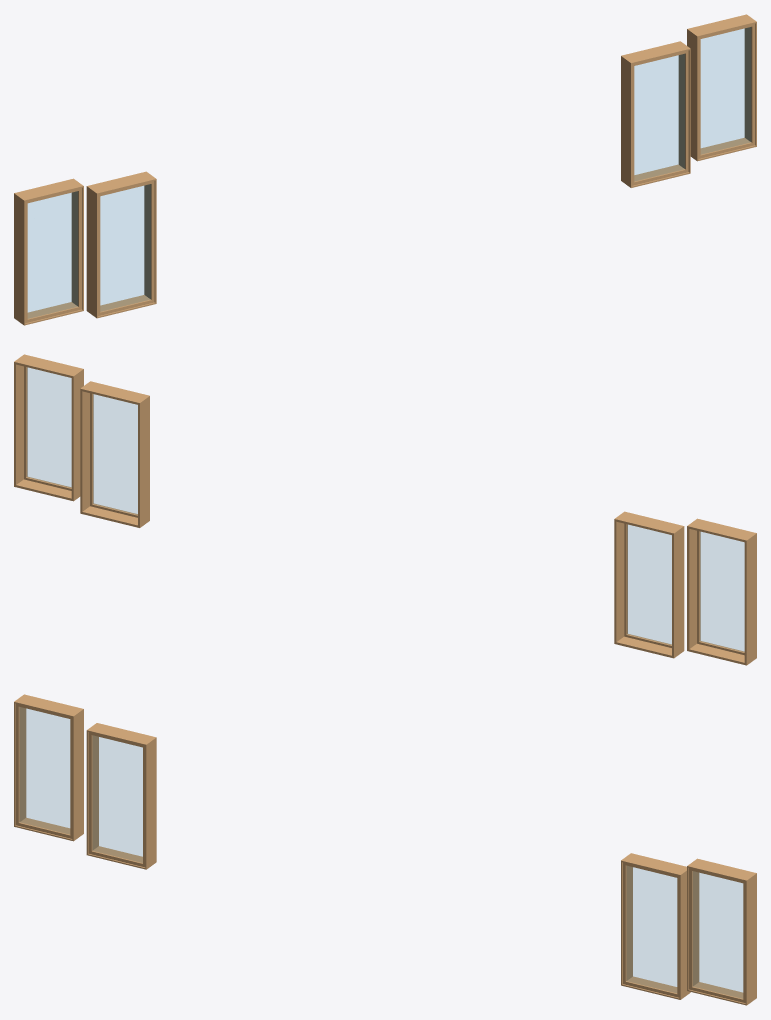
The model's file is Project4_IfcWindow.dae.
3 renders of one model, top to bottom at view 1: azimuth 30°, elevation 25°; view 2: azimuth 150°, elevation 25°; view 3: azimuth 330°, elevation 25°, orthographic.
Visible parts, largest first — view 1: 3SmbFggWX7HupMOn27mr0Z, 3SmbFggWX7HupMOn27mr7t, 3SmbFggWX7HupMOn27mrBu, 3SmbFggWX7HupMOn27mr5h; view 2: 3SmbFggWX7HupMOn27mr0Z, 3SmbFggWX7HupMOn27mr7t, 3SmbFggWX7HupMOn27mrBu, 3SmbFggWX7HupMOn27mr5h; view 3: 3SmbFggWX7HupMOn27mr0Z, 3SmbFggWX7HupMOn27mr5h, 3SmbFggWX7HupMOn27mrBu, 3SmbFggWX7HupMOn27mr7t.
Boxes of the visible parts, left/top/right/bottom form: 3SmbFggWX7HupMOn27mr0Z: left=86, top=171, right=156, bottom=318; 3SmbFggWX7HupMOn27mr7t: left=621, top=41, right=690, bottom=187; 3SmbFggWX7HupMOn27mrBu: left=14, top=178, right=83, bottom=325; 3SmbFggWX7HupMOn27mr5h: left=687, top=14, right=756, bottom=161; 3SmbFggWX7HupMOn27mr0Z: left=614, top=511, right=684, bottom=658; 3SmbFggWX7HupMOn27mr7t: left=80, top=381, right=149, bottom=527; 3SmbFggWX7HupMOn27mrBu: left=687, top=518, right=756, bottom=665; 3SmbFggWX7HupMOn27mr5h: left=14, top=354, right=83, bottom=501; 3SmbFggWX7HupMOn27mr0Z: left=86, top=723, right=156, bottom=869; 3SmbFggWX7HupMOn27mr5h: left=687, top=858, right=756, bottom=1005; 3SmbFggWX7HupMOn27mrBu: left=14, top=694, right=83, bottom=841; 3SmbFggWX7HupMOn27mr7t: left=621, top=853, right=690, bottom=999.
Bounding box in the file's own units: 11.23 × 0.27 × 1.99.
